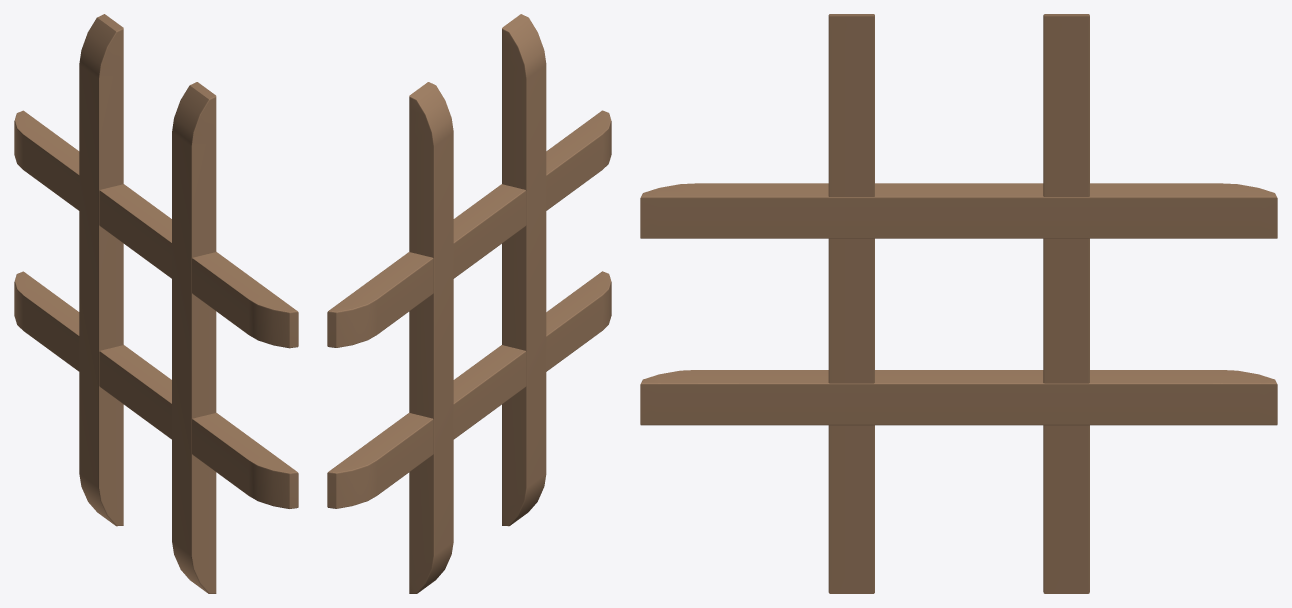
Rendered from planks_big.fbx.
The picture shows the model from 3 angles, left to right: view 1: azimuth 30°, elevation 25°; view 2: azimuth 150°, elevation 25°; view 3: azimuth 270°, elevation 25°; orthographic projection. The views are drawn at different scales.
Visible parts, largest first — view 1: Plank_C8; view 2: Plank_C8; view 3: Plank_C8.
Boxes of the visible parts, x1=… form: Plank_C8: x1=14, y1=14, x2=298, y2=593; Plank_C8: x1=327, y1=14, x2=611, y2=593; Plank_C8: x1=640, y1=14, x2=1277, y2=593.
Size of the model in its own units: 0.1224 by 2.27 by 2.27.
